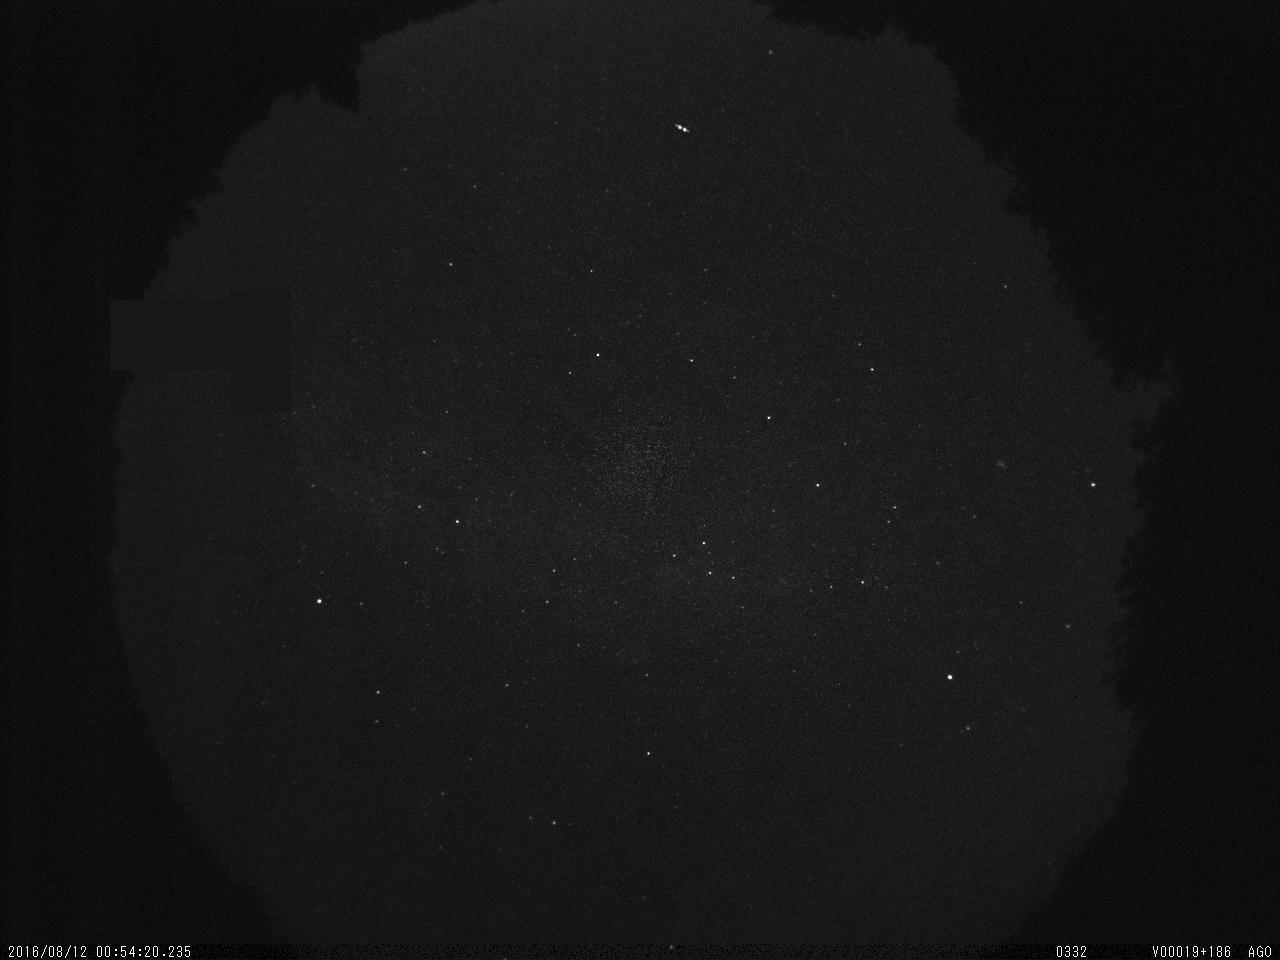meteor: (230, 282, 266, 319)
